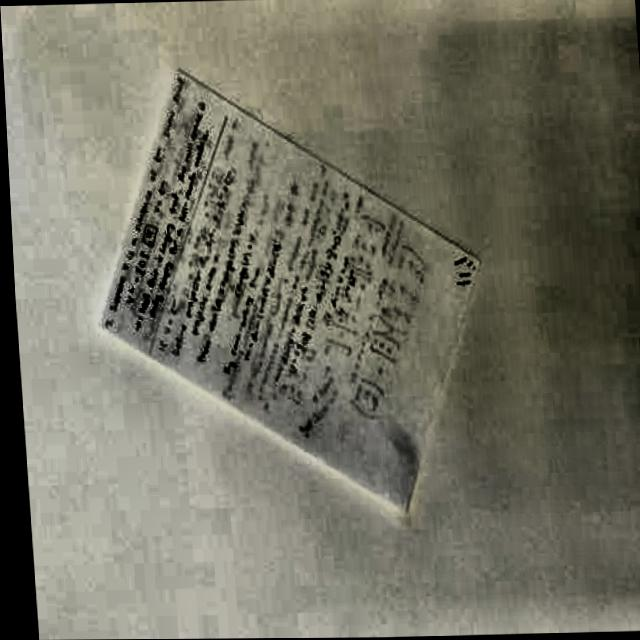Paper: (70, 63, 494, 525)
